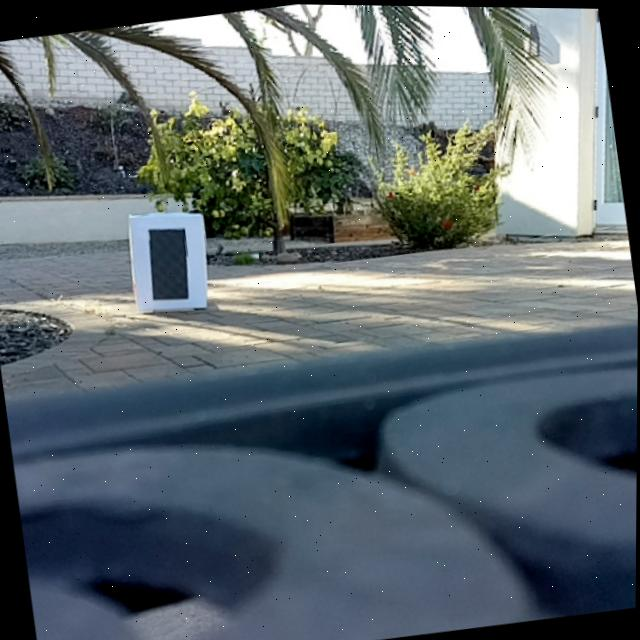led: (144, 221, 197, 304)
